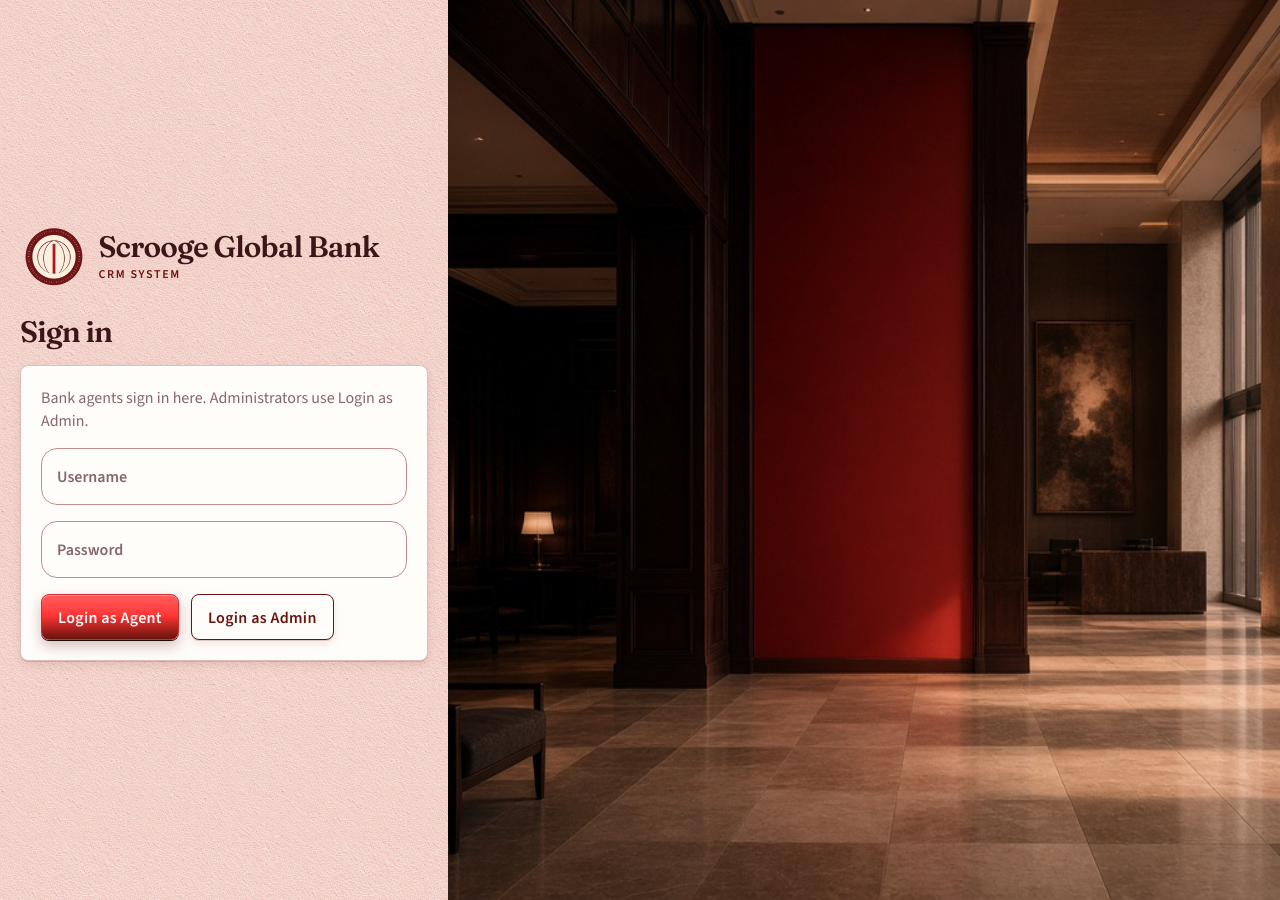
Test: CRM wireframe › rejects empty login credentials
Click the button "Login as Agent" at (110, 617), box [41, 594, 179, 640]
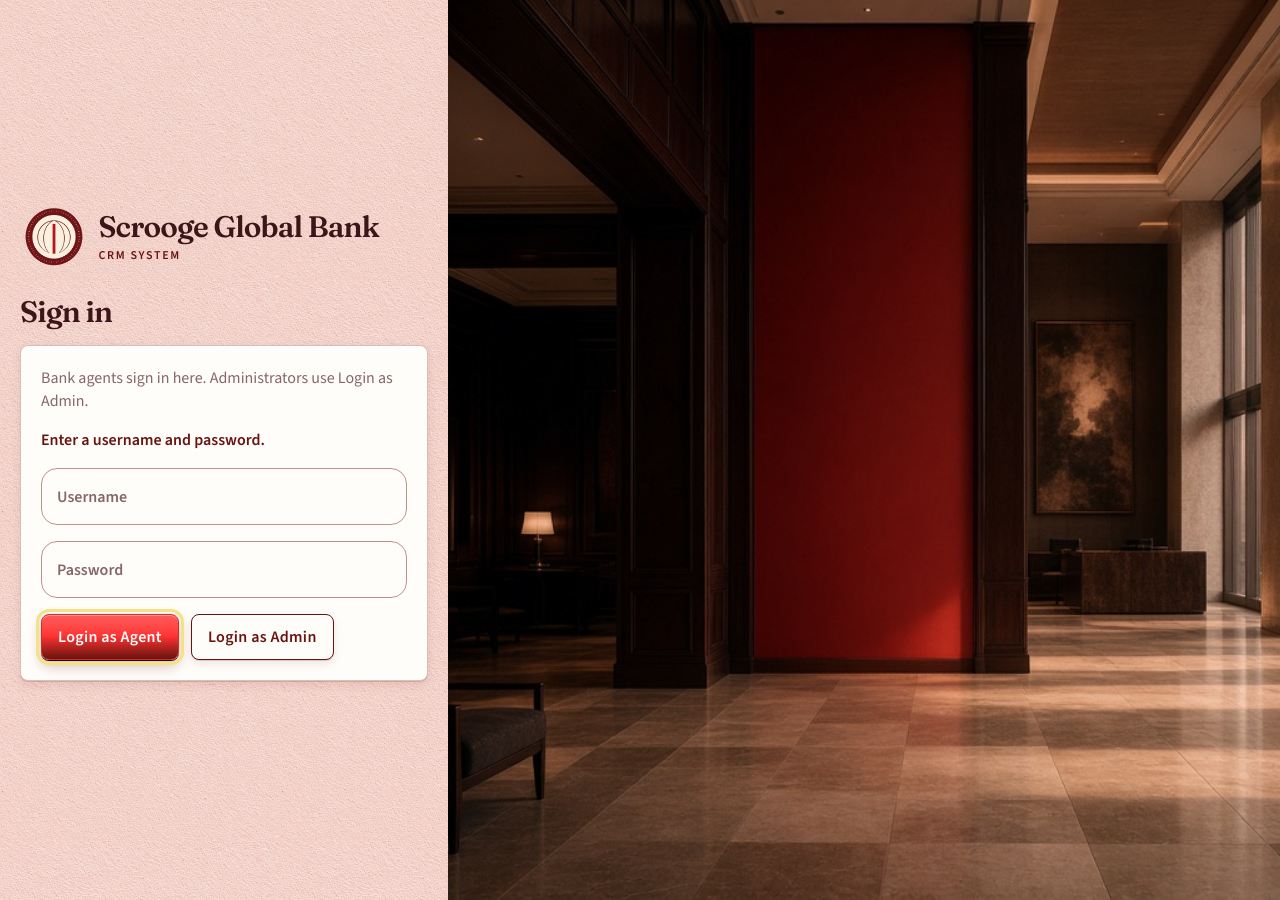
Expected: the message reads "Enter a username and password.", [41, 429, 265, 450]
